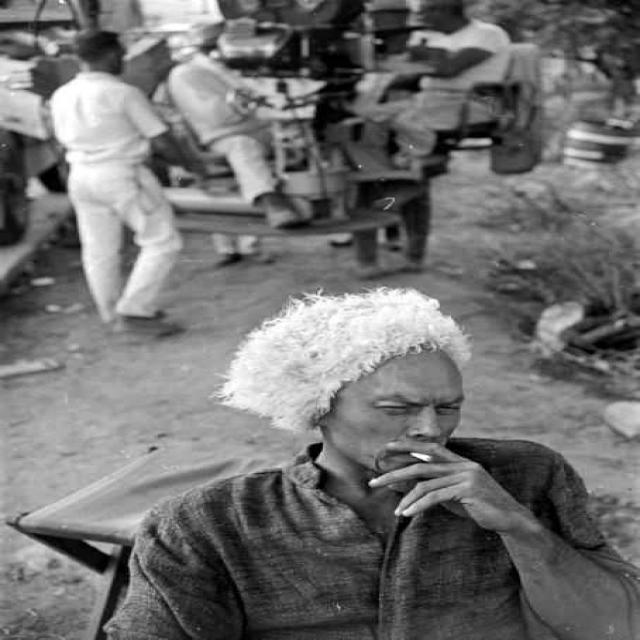Smooking: (399, 441, 436, 467)
